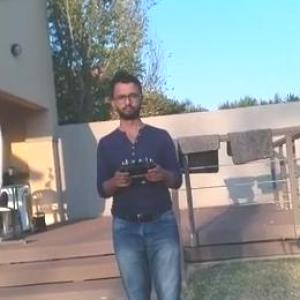follow: (95, 66, 192, 299)
